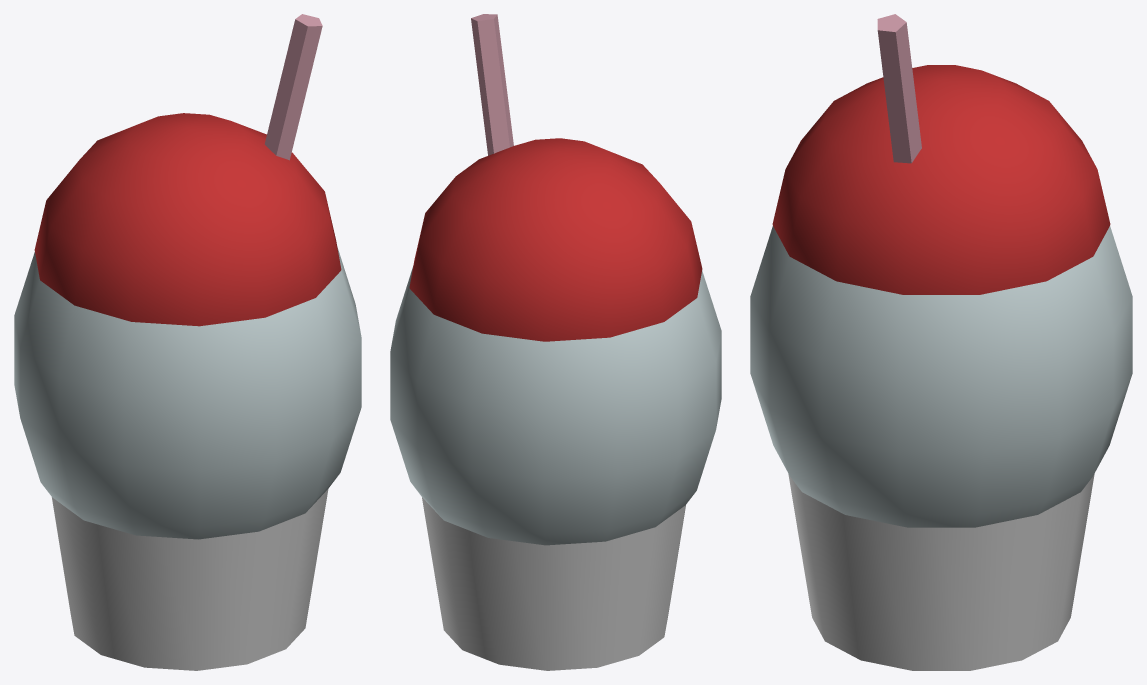
The model's file is item_shavedIce.glb.
3 views of the same model, side by side, from view 1: azimuth 30°, elevation 25°; view 2: azimuth 150°, elevation 25°; view 3: azimuth 270°, elevation 25° (orthographic). The views are drawn at different scales.
Parts seen in each view (by area): view 1: item_shavedIce; view 2: item_shavedIce; view 3: item_shavedIce.
Boxes of the visible parts, box(x1,y1,x2,y2) form: item_shavedIce: box(14, 14, 361, 670); item_shavedIce: box(390, 14, 721, 670); item_shavedIce: box(750, 14, 1132, 670).
Size of the model in its own units: 0.1037 by 0.1994 by 0.1064.
